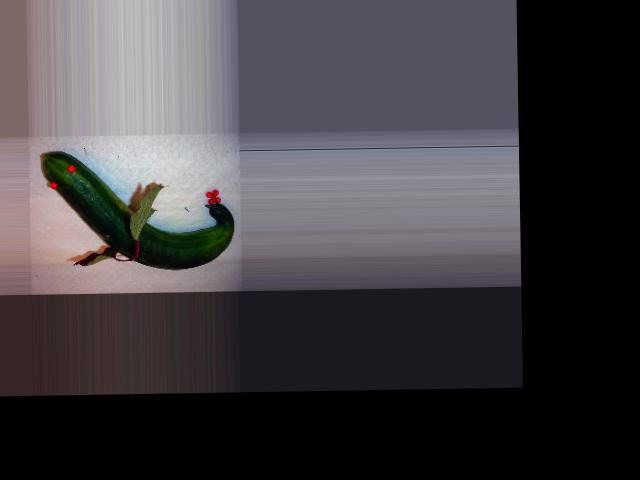cucumber: (43, 148, 235, 271)
